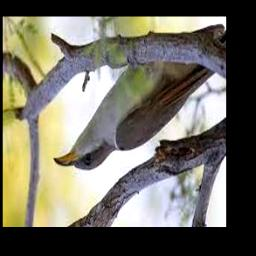Cuckoo: (54, 61, 218, 171)
